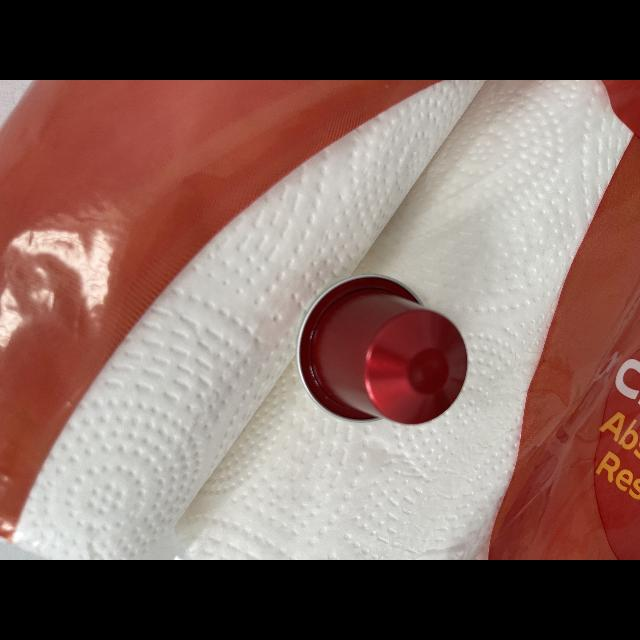intact_capsule: (285, 260, 489, 444)
